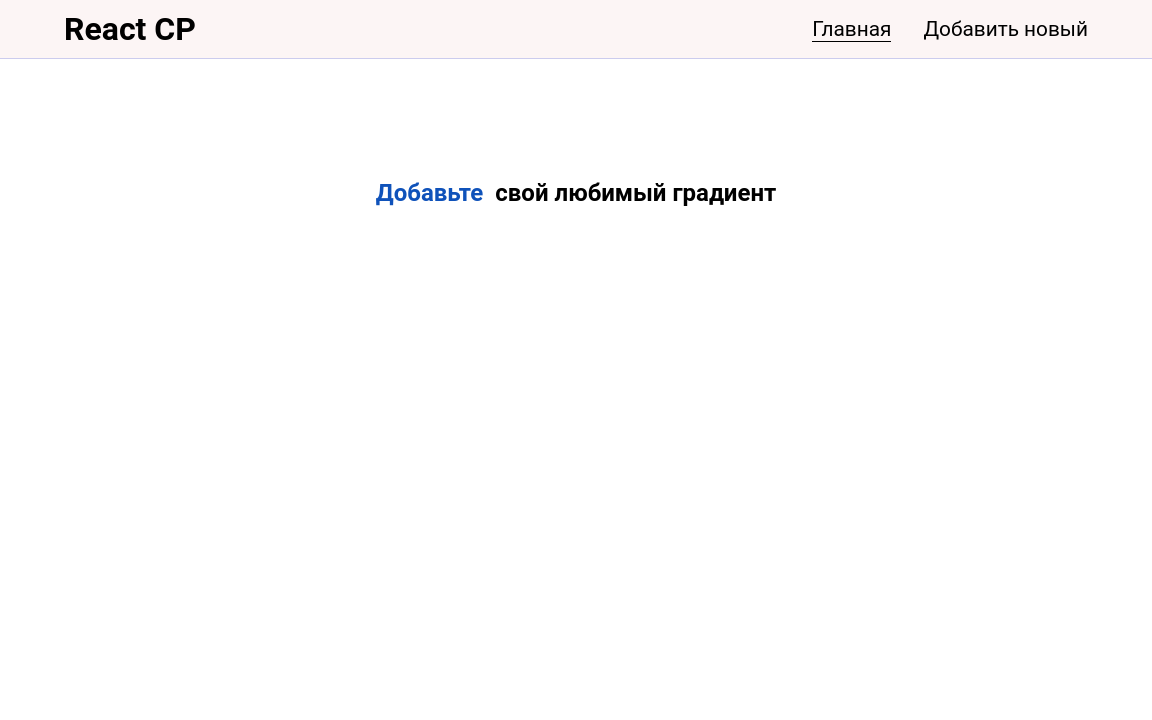
App.js › should show addColor page
Step 1. Click the link "Добавьте" → x=430, y=194, box top-left (376, 179), bottom-right (483, 209)
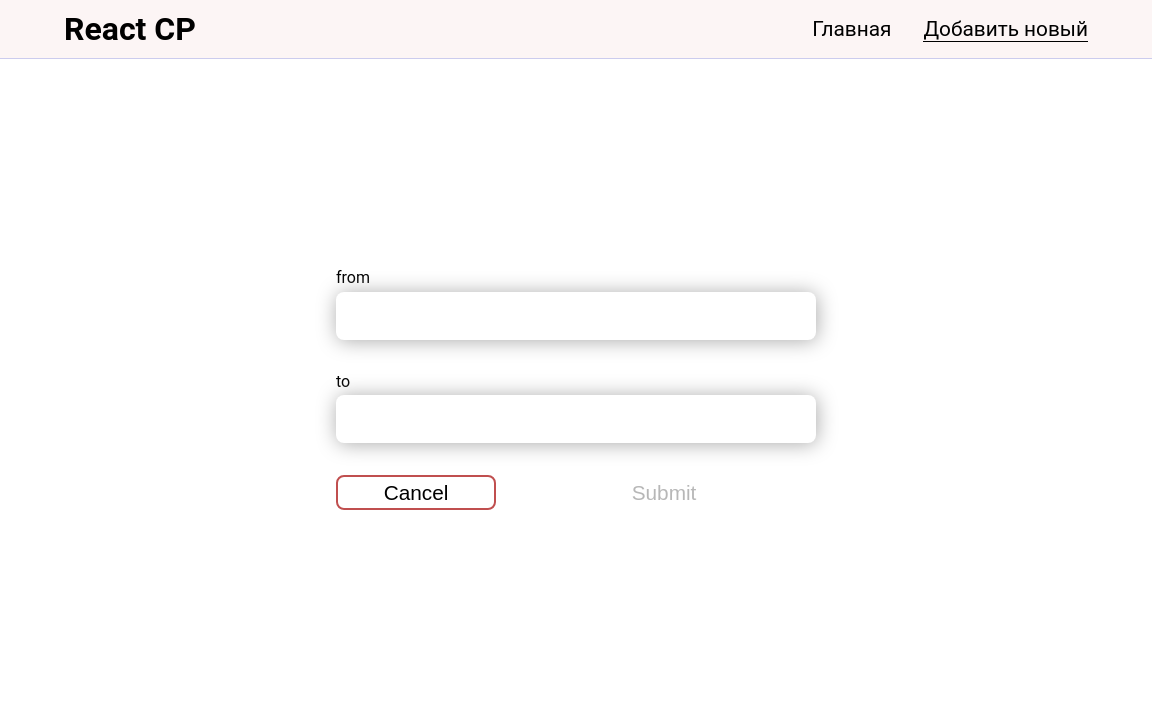
Expected: the number of fields is 2, top-left (336, 292), bottom-right (816, 340); top-left (336, 395), bottom-right (816, 443)
